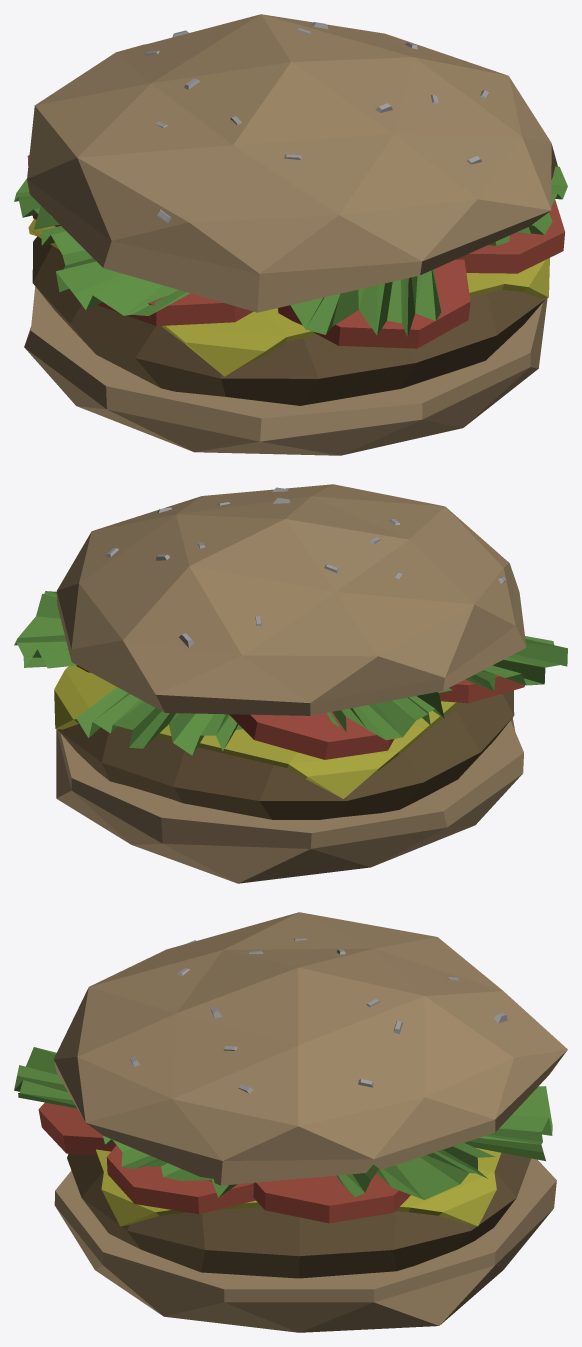
File: food-Burger.glb
3 views of the same model, one above another, from view 1: azimuth 30°, elevation 25°; view 2: azimuth 150°, elevation 25°; view 3: azimuth 270°, elevation 25° (orthographic). The views are drawn at different scales.
Parts seen in each view (by area): view 1: Burger; view 2: Burger; view 3: Burger.
Boxes of the visible parts, <box> form: Burger: <box>14,14,567,455</box>; Burger: <box>14,484,567,883</box>; Burger: <box>14,912,567,1332</box>.
Size of the model in its own units: 1.65 by 1.07 by 1.7.
